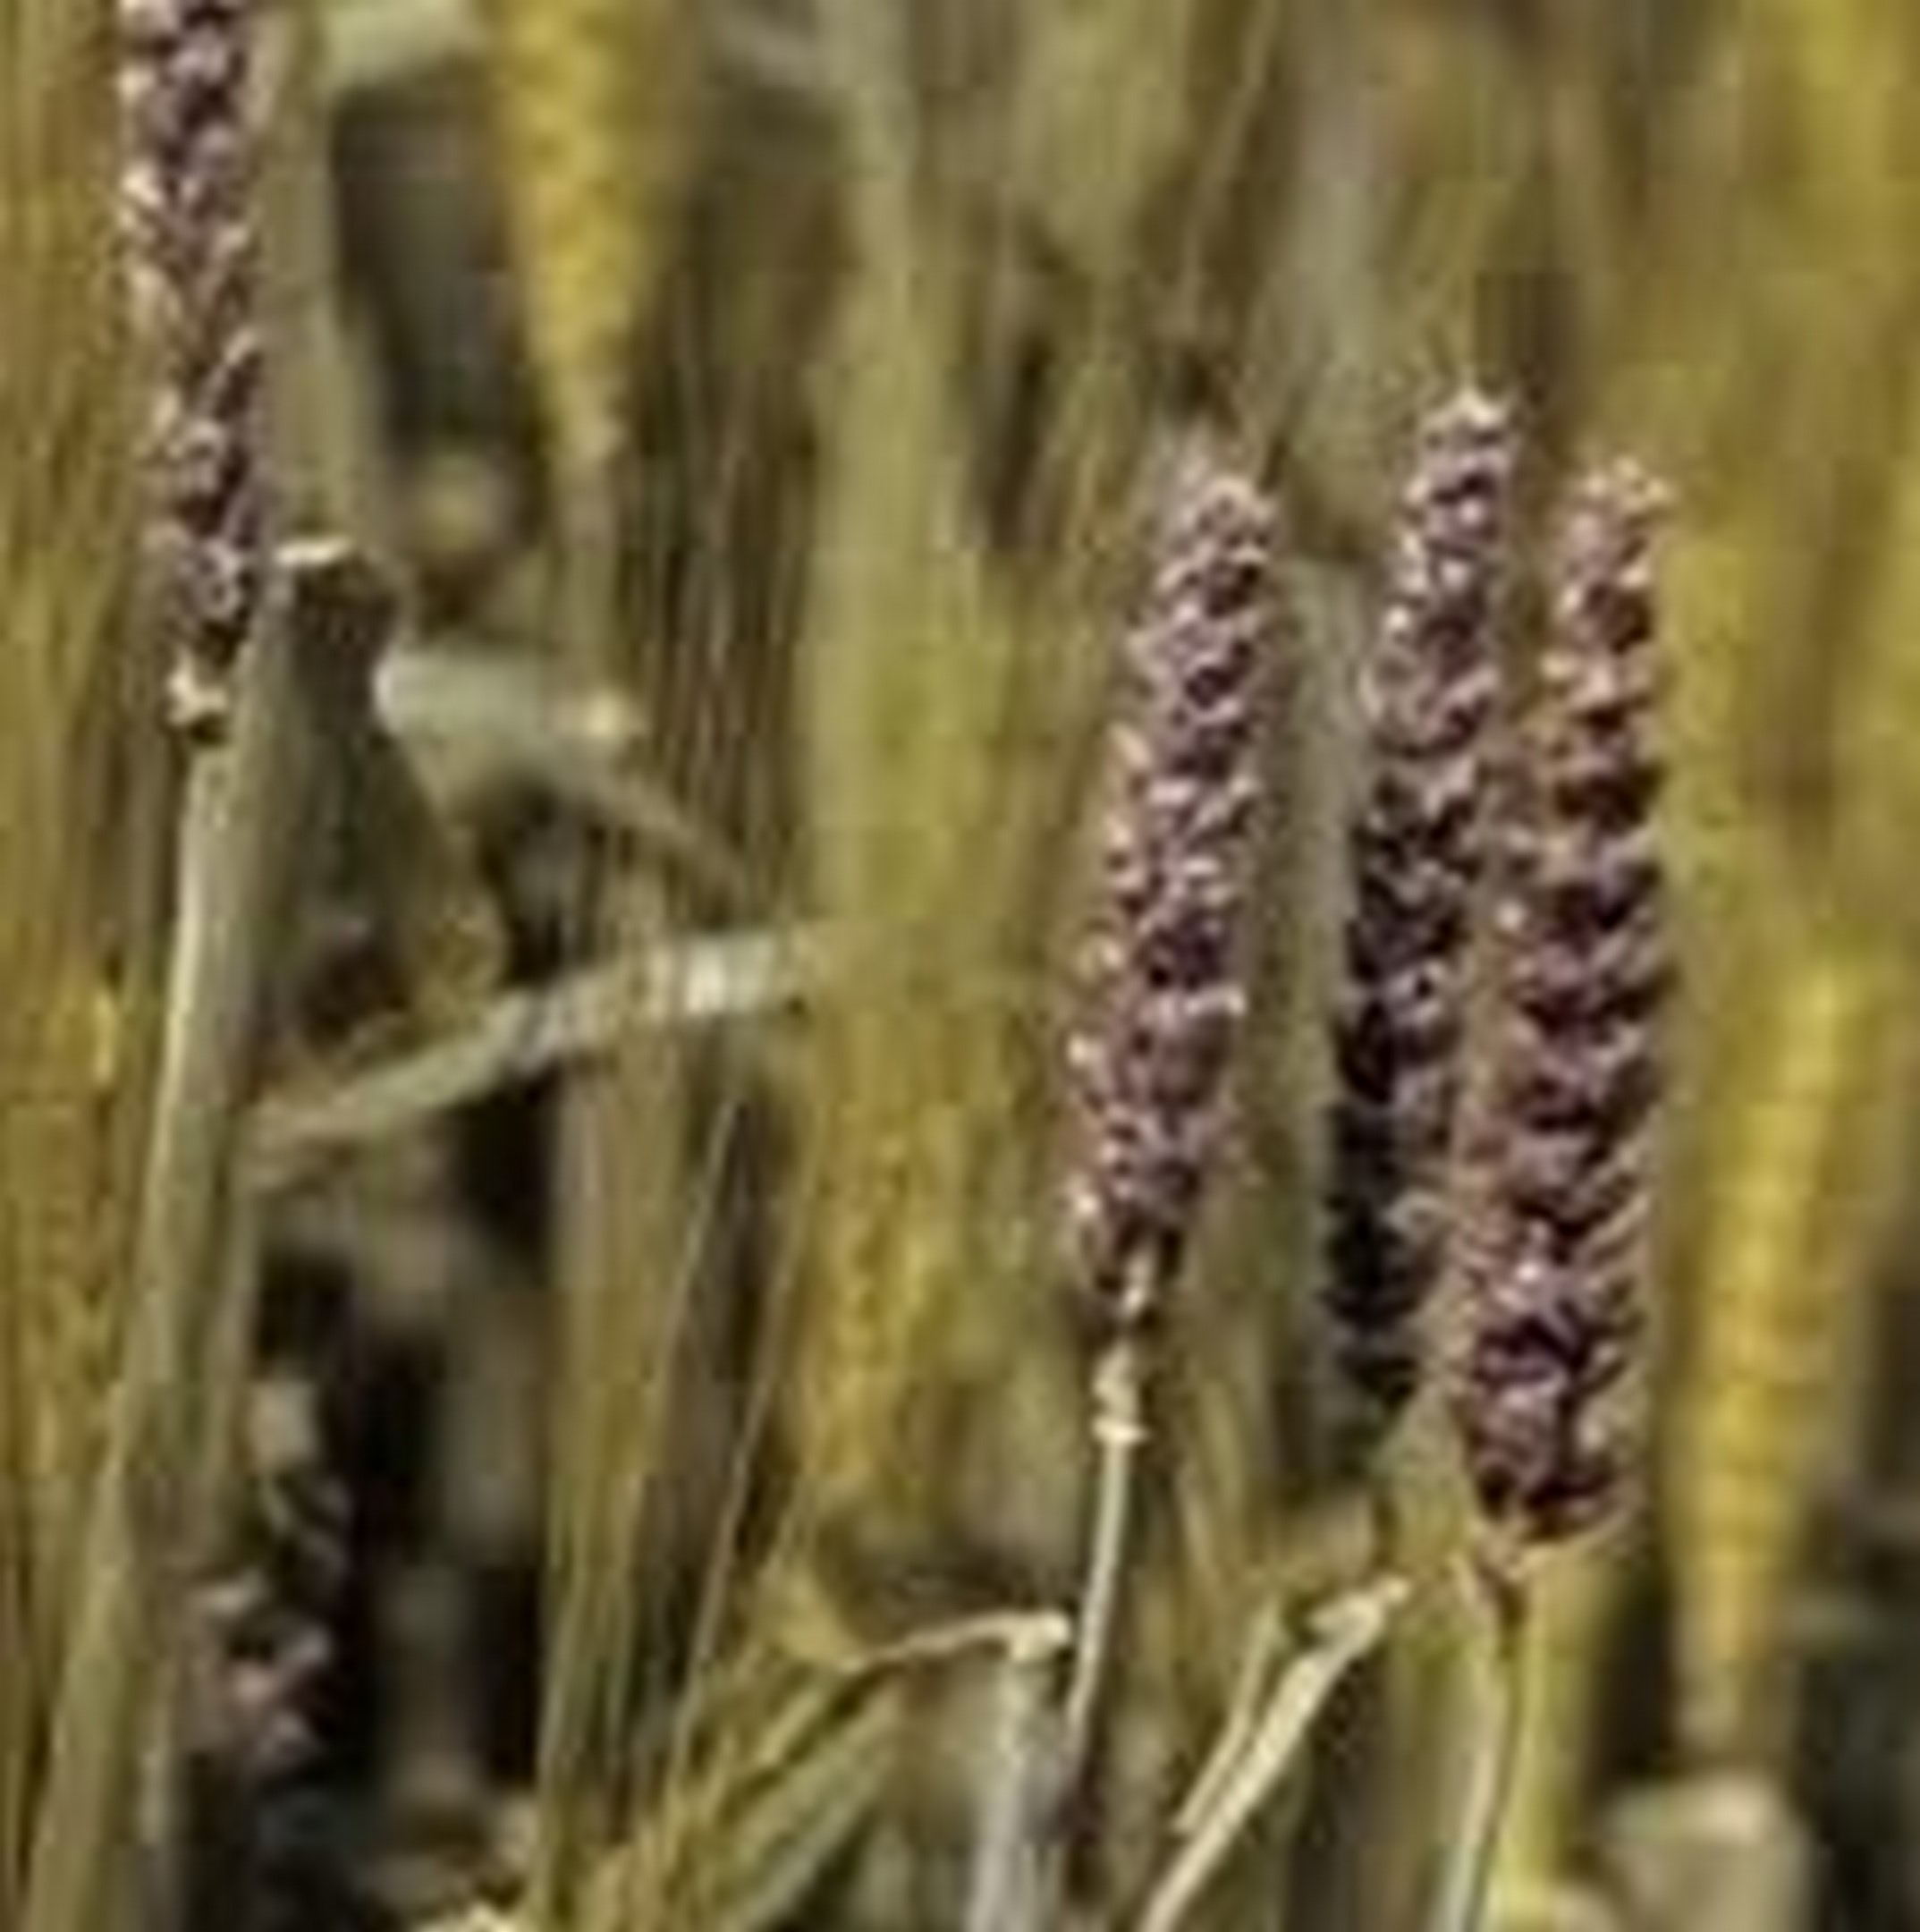Wheat Loose Smut: (1055, 404, 1767, 1535)
